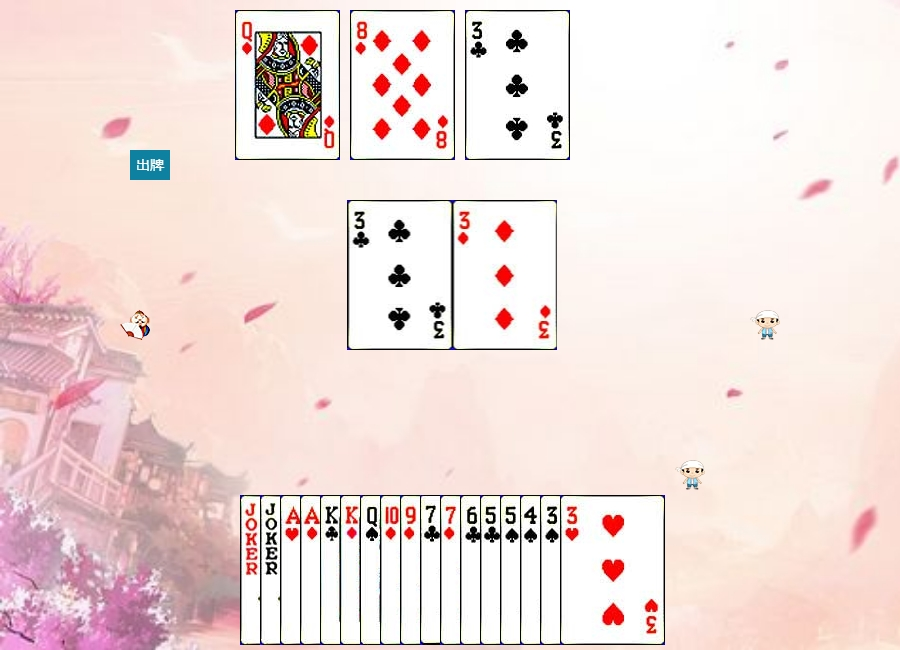10~1: (380, 495, 485, 645)
12~1: (235, 10, 340, 160)
12~4: (360, 495, 465, 645)
13~1: (340, 495, 445, 645)
13~2: (320, 495, 425, 645)
14~1: (300, 495, 405, 645)
14~3: (280, 495, 385, 645)
17~3: (260, 495, 365, 645)
18~4: (240, 495, 345, 645)
3~1: (453, 200, 558, 350)
3~2: (465, 10, 570, 160), (348, 200, 453, 350)
3~3: (560, 495, 665, 645)
3~4: (540, 495, 645, 645)
4~4: (520, 495, 625, 645)
5~2: (480, 495, 585, 645)
5~4: (500, 495, 605, 645)
6~2: (460, 495, 565, 645)
7~1: (440, 495, 545, 645)
7~2: (420, 495, 525, 645)
8~1: (350, 10, 455, 160)
9~1: (400, 495, 505, 645)
